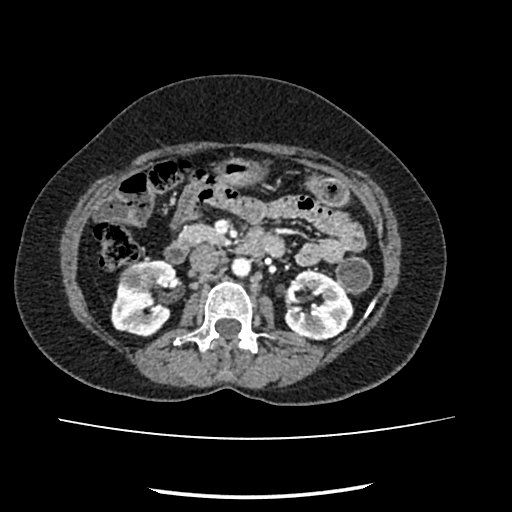aorta: (231, 251, 257, 277)
